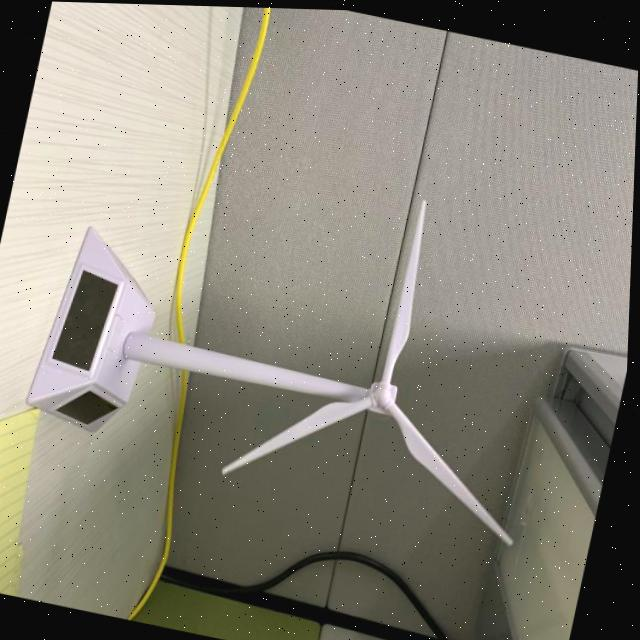solid-blade: (392, 401, 516, 540), (226, 394, 374, 472), (383, 197, 426, 382)
